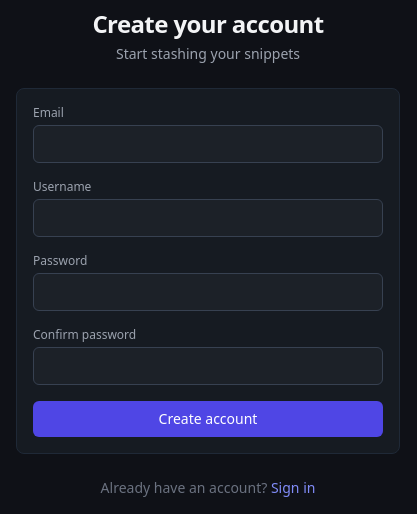
Test: RegisterPage › shows the "Check your inbox" state on successful registration
The image size is (417, 514).
Type "alice@example.com" into the field labelled "Email" at (208, 144), box [33,125,383,163]
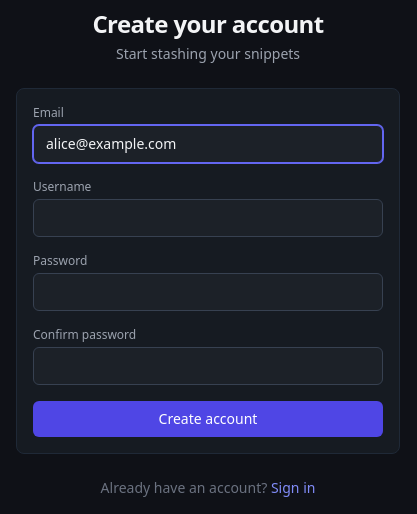
Type "alice" into the field labelled "Username" at (208, 218), box [33,199,383,237]
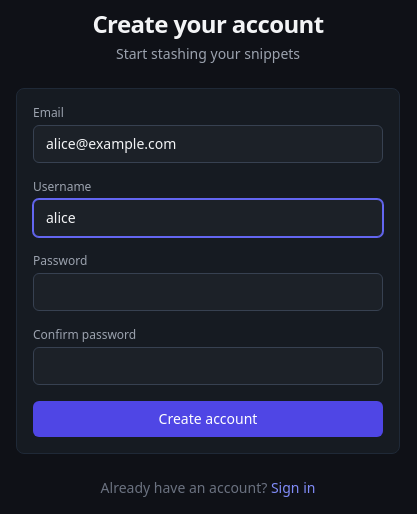
Type "password1" into the password field labelled "Password" at (208, 292), box [33,273,383,311]
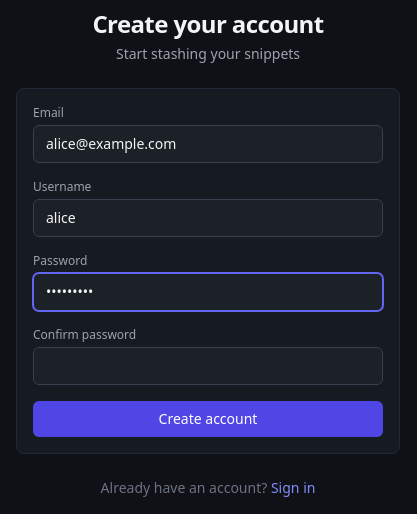
Type "password1" into the password field labelled "Confirm password" at (208, 366), box [33,347,383,385]
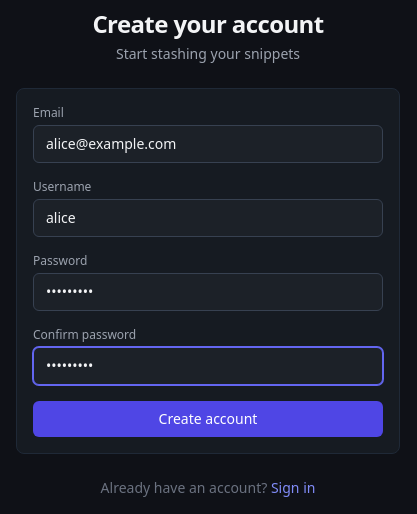
Click the button "Create account" at (208, 419), box [33,401,383,437]
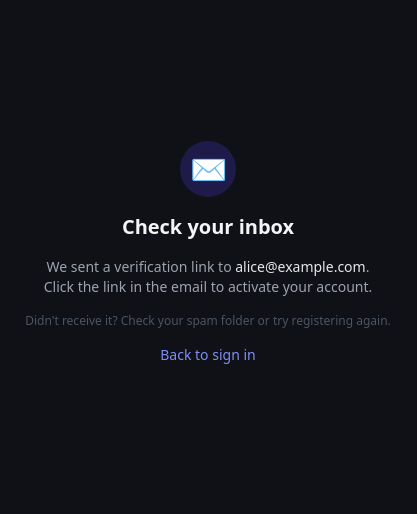
Now the heading "Check your inbox" is shown, box [122,212,294,240]
